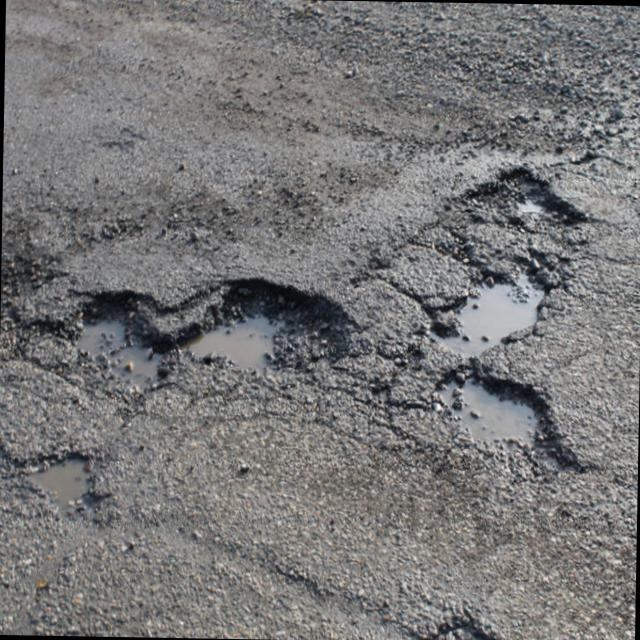Potholes: (0, 257, 361, 608), (420, 135, 597, 505)
